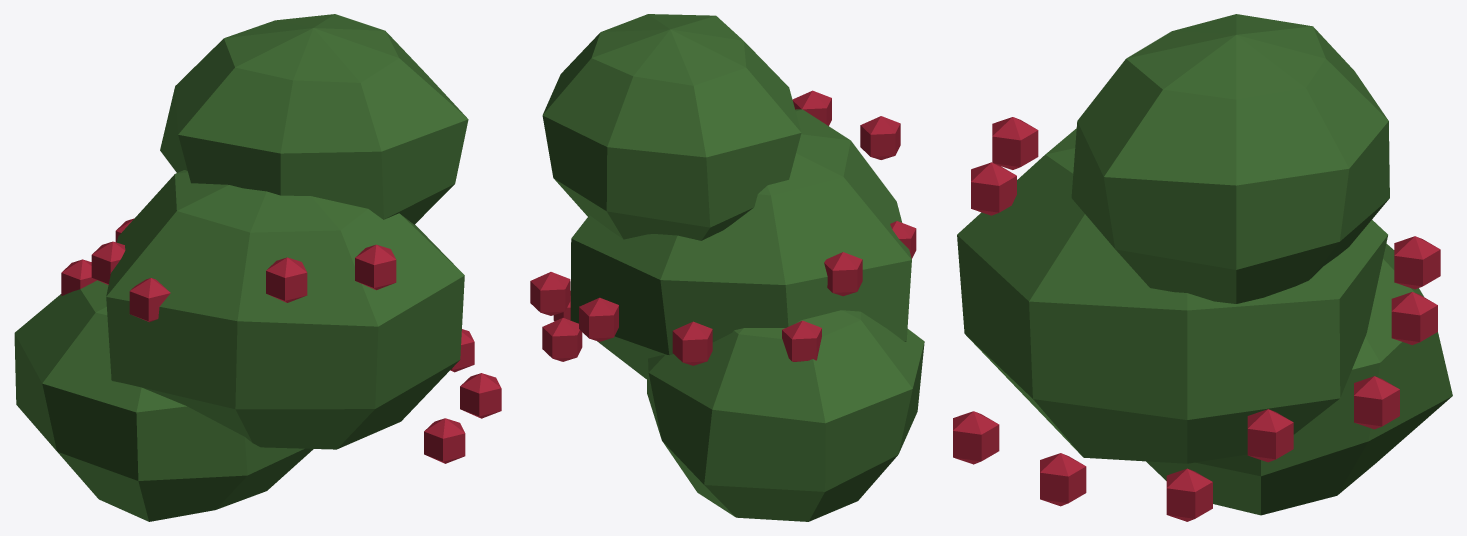
Rendered from berry_bush_2.glb.
3 views of the same model, side by side, from view 1: azimuth 30°, elevation 25°; view 2: azimuth 150°, elevation 25°; view 3: azimuth 270°, elevation 25° (orthographic). The views are drawn at different scales.
Parts seen in each view (by area): view 1: berry_bush_2; view 2: berry_bush_2; view 3: berry_bush_2.
Part boxes in pixels (left/top/right/bottom): berry_bush_2: left=14, top=14, right=501, bottom=521; berry_bush_2: left=530, top=14, right=924, bottom=521; berry_bush_2: left=953, top=14, right=1452, bottom=521.
Size of the model in its own units: 1.09 by 1.18 by 1.02.
